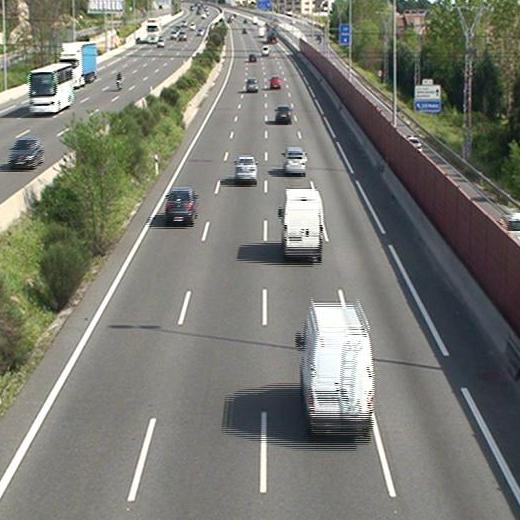car: (165, 185, 198, 224), (284, 146, 306, 172), (234, 155, 256, 181), (275, 106, 292, 123), (245, 77, 259, 92), (270, 75, 282, 90)
van: (300, 301, 375, 436), (281, 188, 325, 262)
